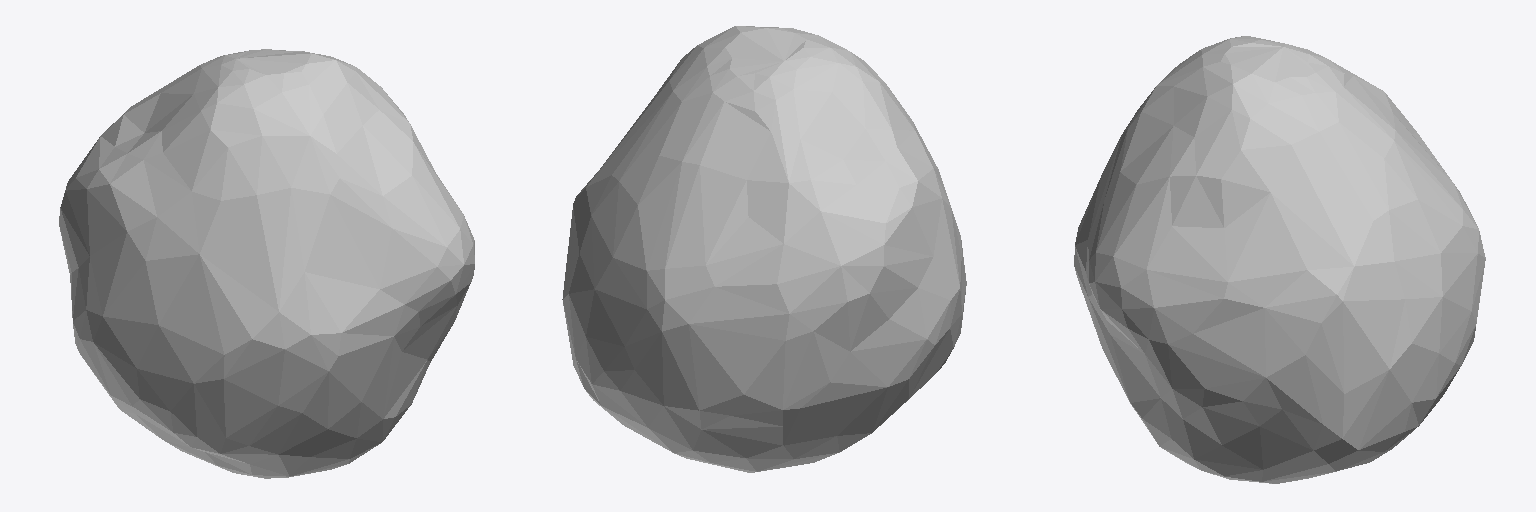
The model's file is Asteroid.obj.
3 renders of one model, left to right at view 1: azimuth 30°, elevation 25°; view 2: azimuth 150°, elevation 25°; view 3: azimuth 270°, elevation 25°, orthographic.
Parts seen in each view (by area): view 1: Sphere; view 2: Sphere; view 3: Sphere.
Part boxes in pixels (bbox=[...]): Sphere: bbox=[59, 49, 474, 478]; Sphere: bbox=[562, 26, 966, 472]; Sphere: bbox=[1074, 36, 1485, 483].
Size of the model in its own units: 2.28 by 2.52 by 2.31.